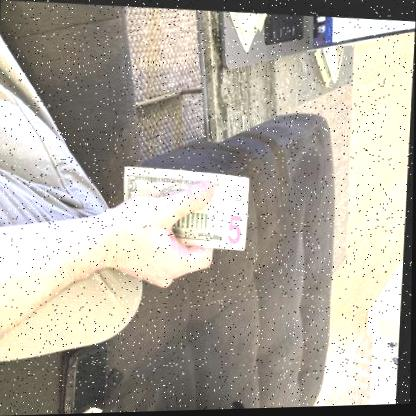five-back: (122, 161, 251, 252)
